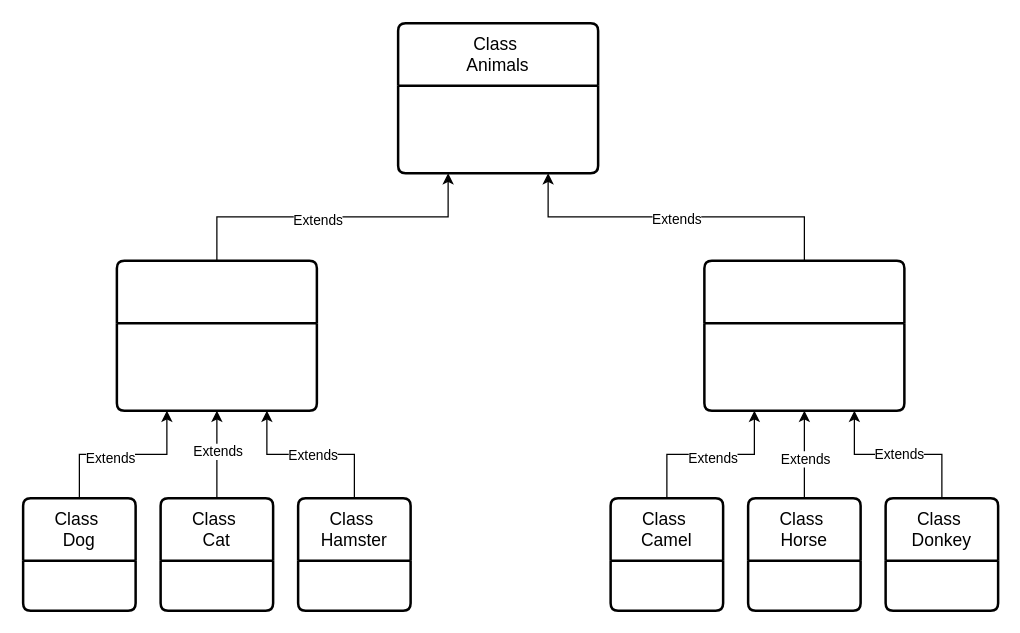
Image size: 1020x633. Some labels were removed from this diagram. Each missing label, with the centre of its shape:
"Class PackAnimals" goes at (x=803, y=335).
"Class PetAnimals" goes at (x=216, y=335).
